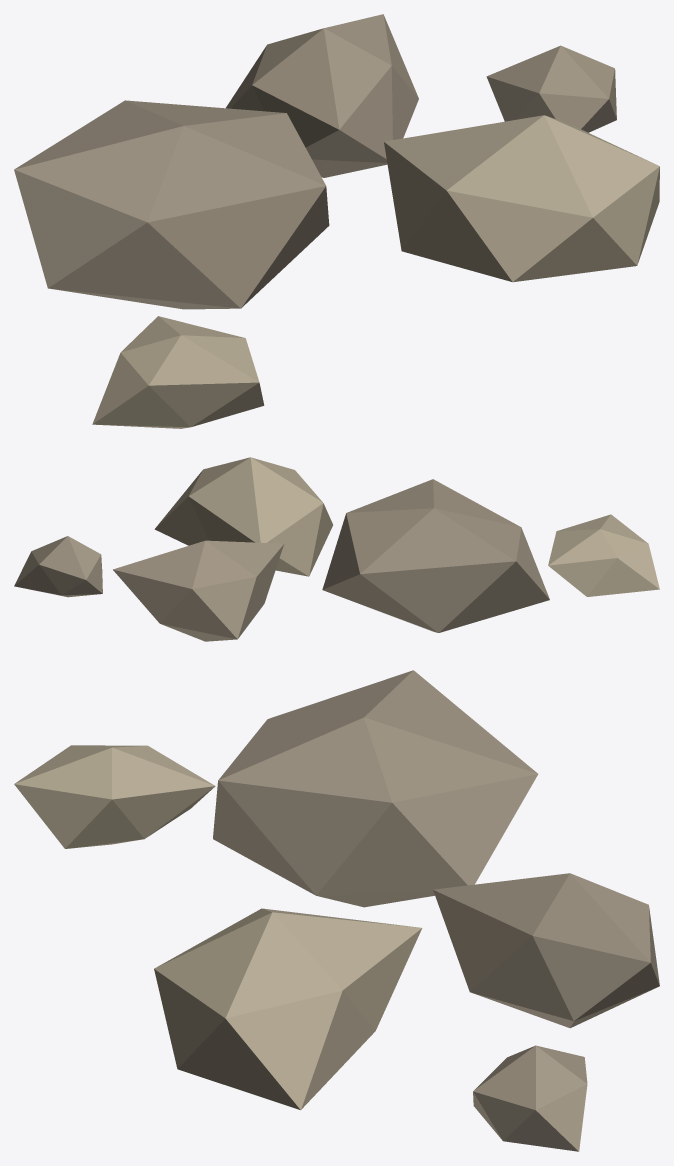
The model's file is RoadsideRock2.glb.
3 views of the same model, one above another, from view 1: azimuth 30°, elevation 25°; view 2: azimuth 150°, elevation 25°; view 3: azimuth 270°, elevation 25° (orthographic). The views are drawn at different scales.
Visible parts, largest first — view 1: GravelA, GravelB, GravelC, GravelD, GravelE; view 2: GravelA, GravelB, GravelC, GravelD, GravelE; view 3: GravelA, GravelB, GravelC, GravelD, GravelE.
Part boxes in pixels (x1,y1,x2,y2): GravelA: (14, 100, 329, 309); GravelB: (384, 115, 659, 282); GravelC: (226, 14, 418, 177); GravelD: (92, 316, 264, 428); GravelE: (486, 45, 616, 132); GravelA: (322, 479, 549, 632); GravelB: (154, 457, 332, 576); GravelC: (113, 540, 283, 641); GravelD: (548, 514, 659, 596); GravelE: (14, 536, 102, 597); GravelA: (213, 670, 538, 907); GravelB: (154, 908, 422, 1110); GravelC: (433, 873, 659, 1028); GravelD: (14, 745, 215, 848); GravelE: (473, 1045, 587, 1151).
Size of the model in its own units: 0.7644 by 0.1831 by 0.5641.
